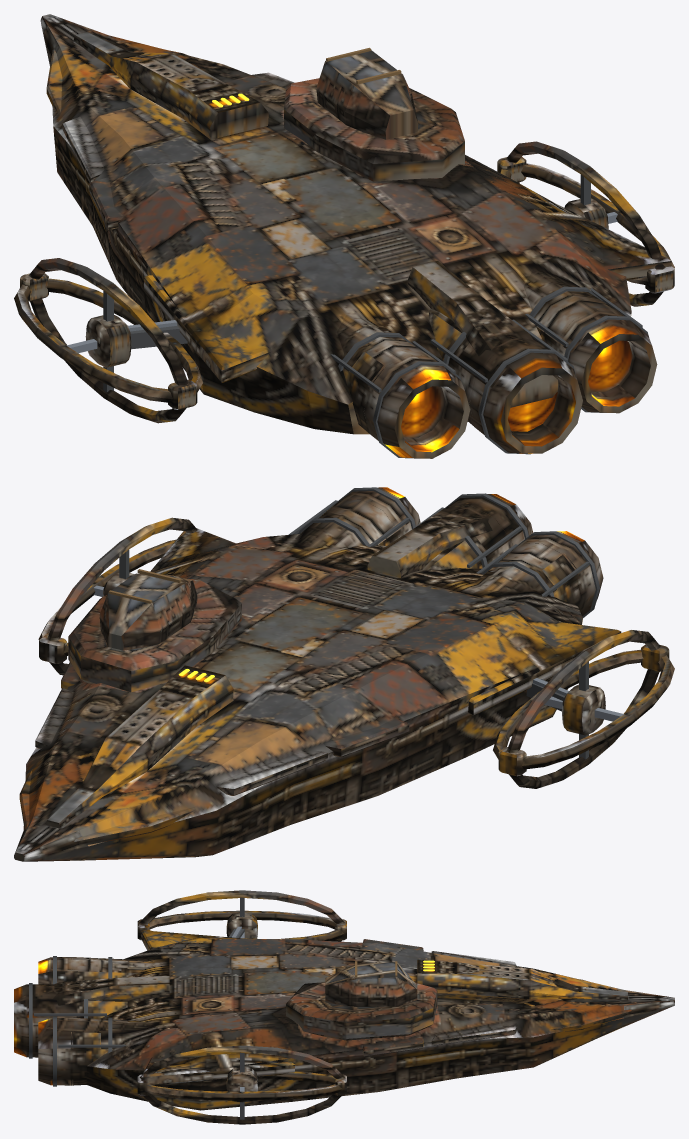
File: pirate-boarding-raider.glb
The picture shows the model from 3 angles, top to bottom: view 1: azimuth 30°, elevation 25°; view 2: azimuth 150°, elevation 25°; view 3: azimuth 270°, elevation 25°; orthographic projection. The views are drawn at different scales.
Parts seen in each view (by area): view 1: Reference artwork | salvaged steel, hazard paint and machine, Structural frames | gunmetal; view 2: Reference artwork | salvaged steel, hazard paint and machine, Structural frames | gunmetal, Ventral armor | dedicated bottom-view reference, Machined titanium edges; view 3: Reference artwork | salvaged steel, hazard paint and machine, Structural frames | gunmetal, Ventral armor | dedicated bottom-view reference.
Boxes of the visible parts, x1,y1,x2,y2 form: Reference artwork | salvaged steel, hazard paint and machine: (14, 14, 674, 458); Structural frames | gunmetal: (103, 174, 648, 458); Reference artwork | salvaged steel, hazard paint and machine: (14, 487, 674, 861); Structural frames | gunmetal: (119, 487, 599, 759); Ventral armor | dedicated bottom-view reference: (24, 615, 660, 861); Machined titanium edges: (93, 585, 624, 721); Reference artwork | salvaged steel, hazard paint and machine: (14, 890, 674, 1124); Structural frames | gunmetal: (29, 897, 244, 1119); Ventral armor | dedicated bottom-view reference: (14, 939, 674, 1095).
Size of the model in its own units: 13.07 by 3.99 by 19.75.
6 materials, 2 textured.
